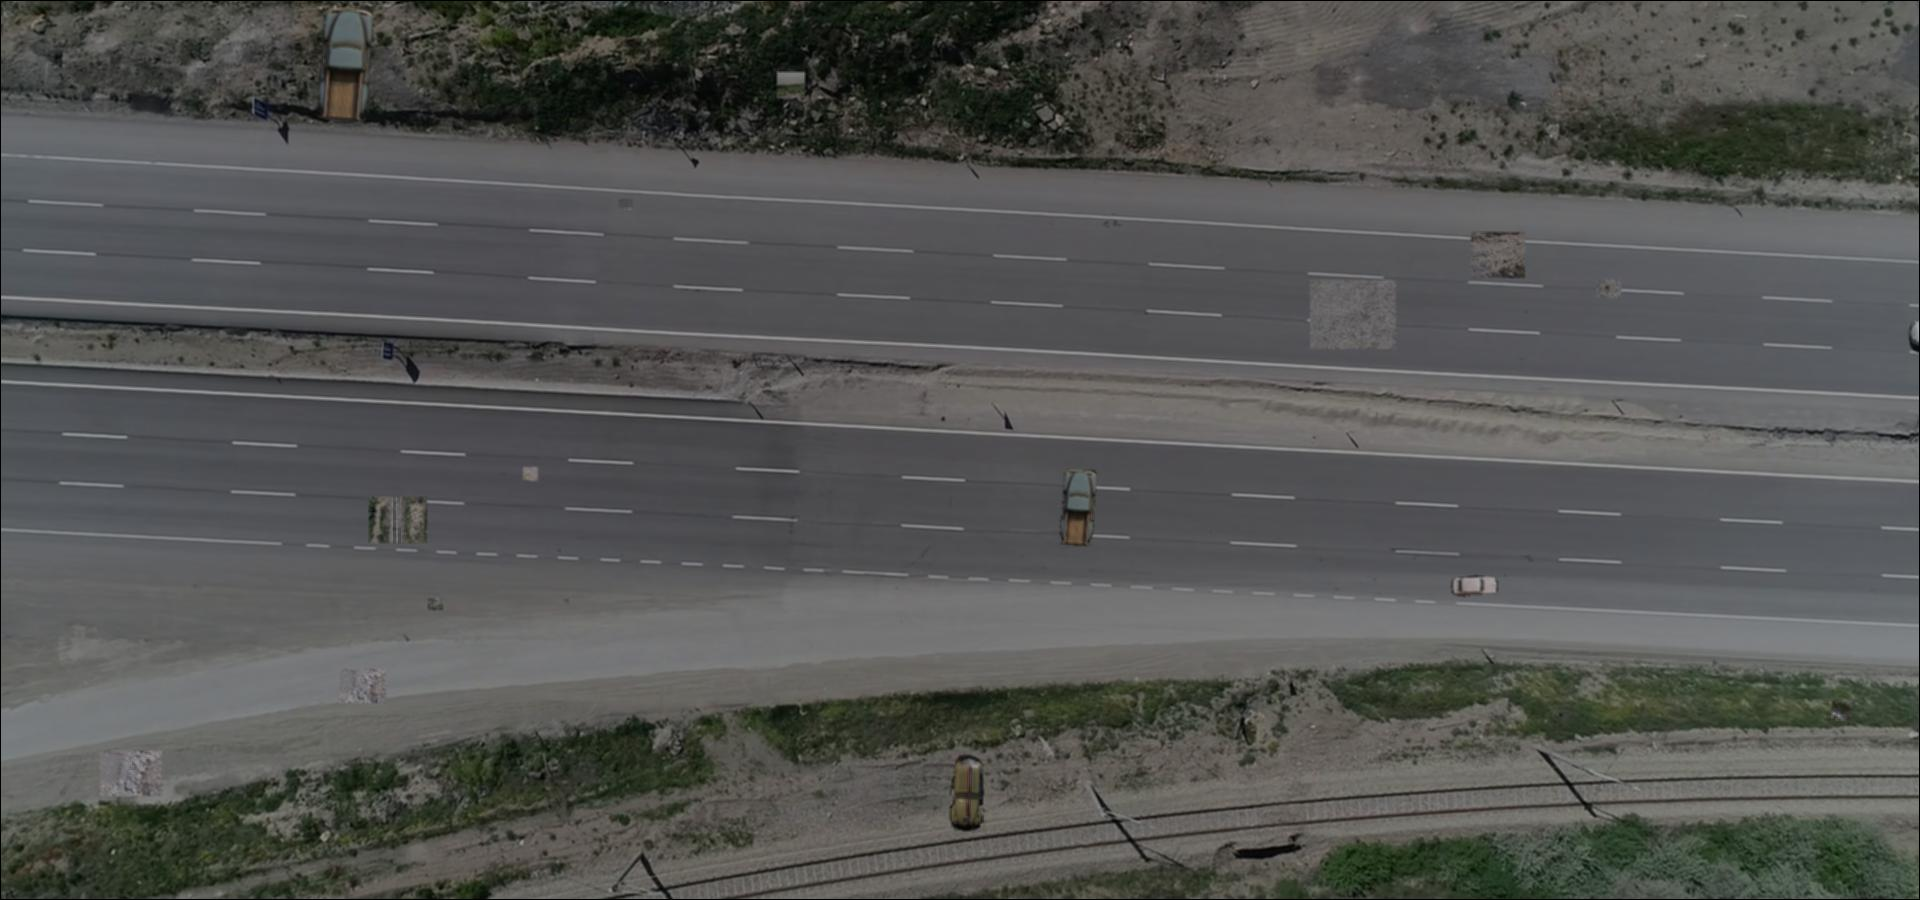arac: (318, 9, 373, 122), (1060, 470, 1097, 547), (949, 756, 984, 831), (1449, 576, 1500, 598)
